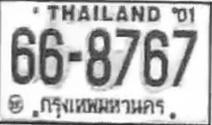6: (142, 29, 168, 86), (38, 27, 63, 84), (10, 26, 34, 83)
7: (113, 28, 140, 86), (172, 28, 196, 87)
8: (85, 28, 110, 86)
BKK: (36, 93, 166, 121)
